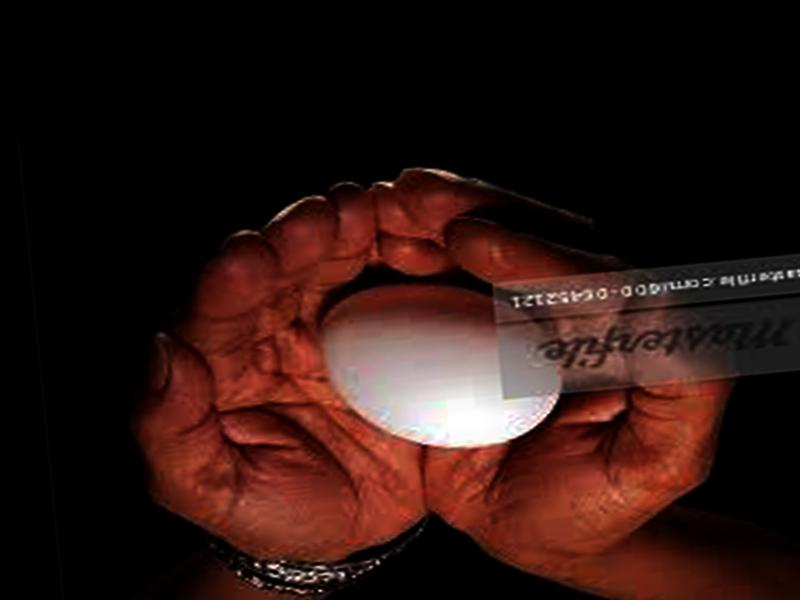Eggs: (313, 266, 559, 459)
